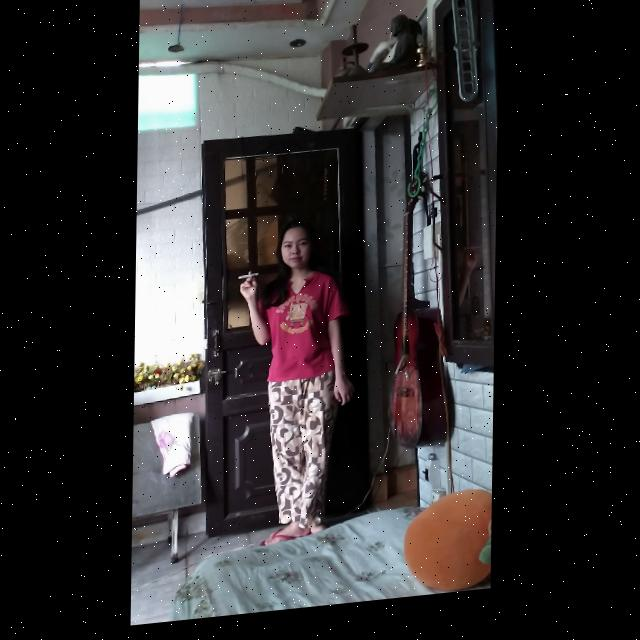cigarette: (239, 279, 260, 284)
